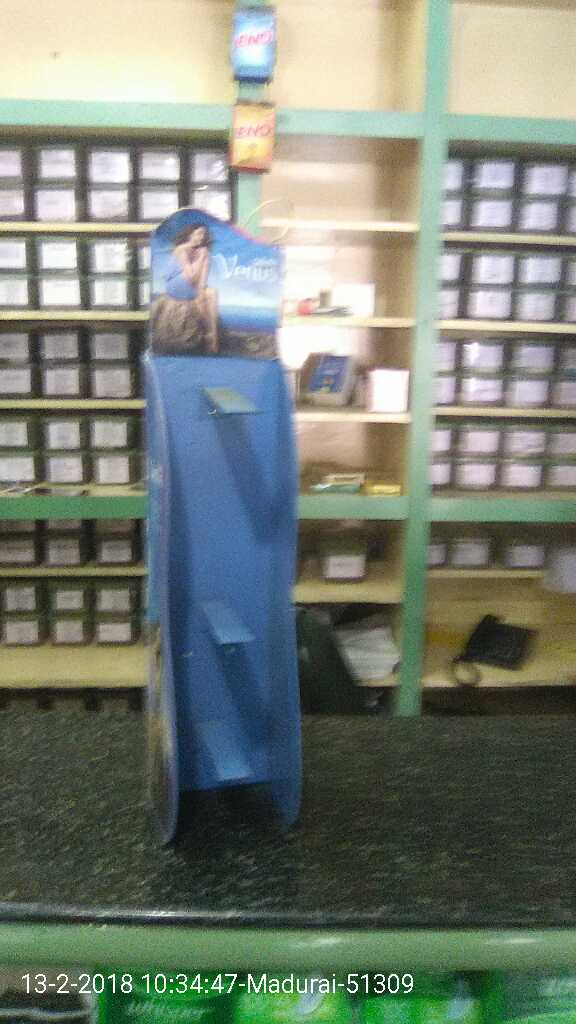reject: (185, 401, 259, 484)
